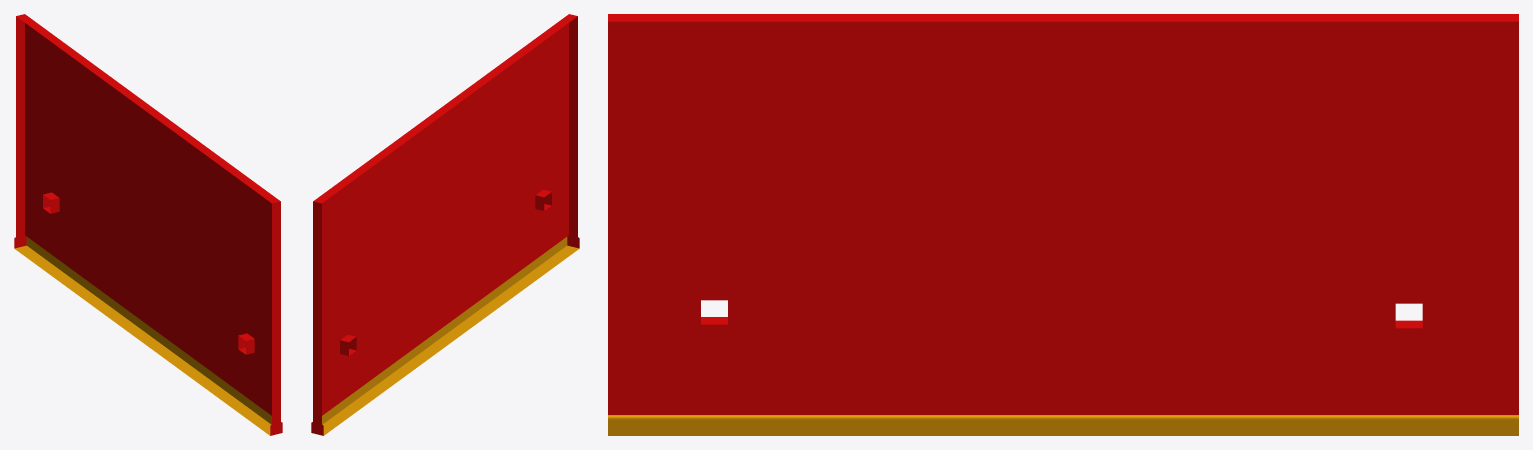
Rendered from Wall_05_1S.fbx.
The picture shows the model from 3 angles, left to right: view 1: azimuth 30°, elevation 25°; view 2: azimuth 150°, elevation 25°; view 3: azimuth 270°, elevation 25°; orthographic projection. The views are drawn at different scales.
Parts seen in each view (by area): view 1: Wall_05; view 2: Wall_05; view 3: Wall_05.
Boxes of the visible parts, <box> form: Wall_05: <box>14,14,282,435</box>; Wall_05: <box>311,14,579,435</box>; Wall_05: <box>608,14,1518,435</box>.
Bounding box in the file's own units: 282 × 5000 × 10000.
